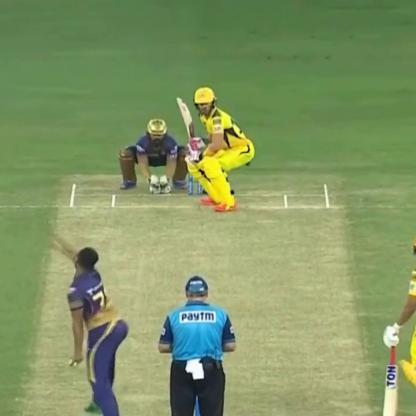ball: (61, 355, 82, 372)
bat: (169, 87, 203, 163)
pitch: (23, 172, 374, 416)
